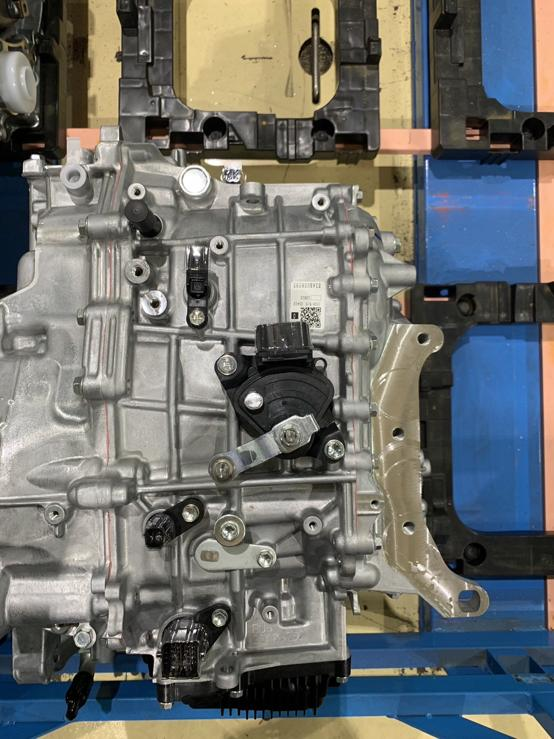gearbox_type2: (0, 140, 451, 698)
gearbox_type2_FP1: (215, 346, 347, 481)
gearbox_type2_FP2: (76, 216, 135, 402)
gearbox_type2_FP3: (68, 474, 135, 512)
